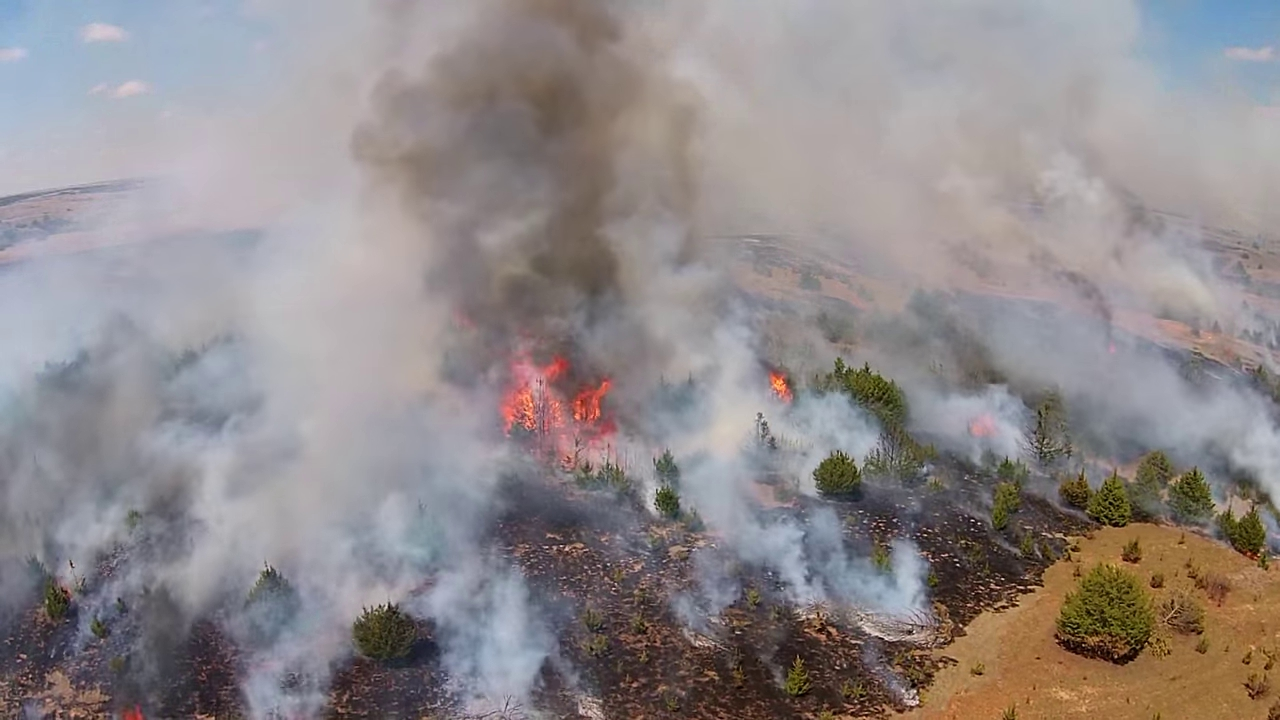forest_fire: (499, 352, 613, 454), (770, 370, 792, 401), (969, 413, 997, 436)
